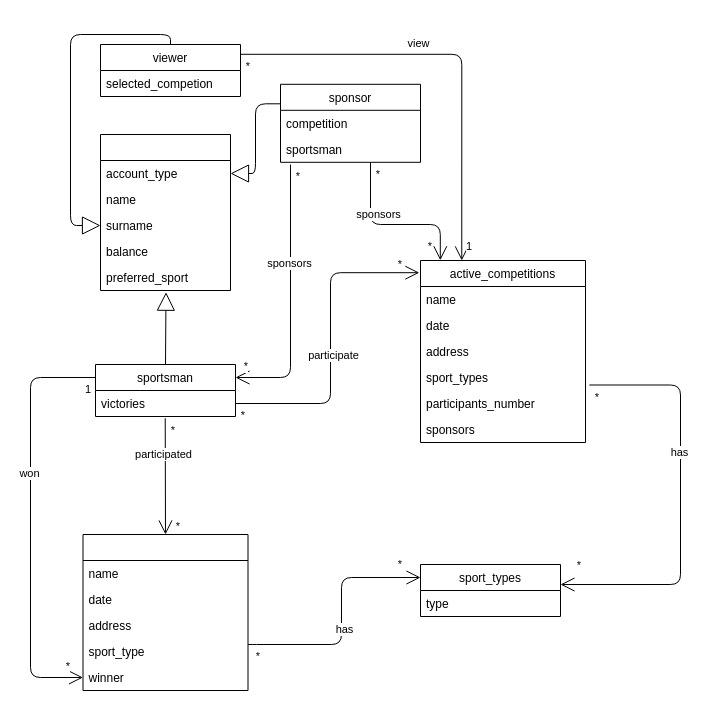
The diagram is 712 pixels wide and 711 high, and some of its shapes have lost their labels. Here are the shapes that lost their labels. From the top down, the box of each, then its label:
(100, 134, 230, 290): user
(82, 534, 248, 690): completed_competitions
